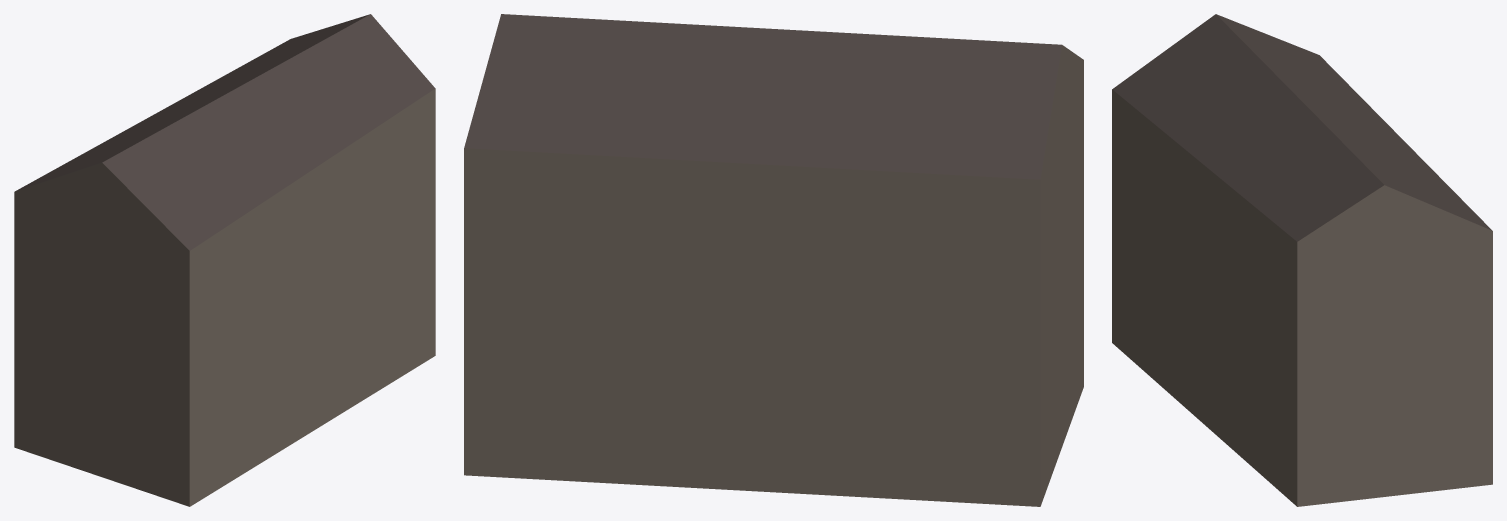
The picture shows the model from 3 angles, left to right: view 1: azimuth 30°, elevation 25°; view 2: azimuth 150°, elevation 25°; view 3: azimuth 270°, elevation 25°; orthographic projection. The views are drawn at different scales.
Parts seen in each view (by area): view 1: HP-w1513026728; view 2: HP-w1513026728; view 3: HP-w1513026728.
Boxes of the visible parts, bbox=[...] form: HP-w1513026728: bbox=[14, 14, 435, 506]; HP-w1513026728: bbox=[464, 14, 1083, 506]; HP-w1513026728: bbox=[1112, 14, 1492, 506].
Bounding box in the file's own units: 10.05 × 7.38 × 8.16.
